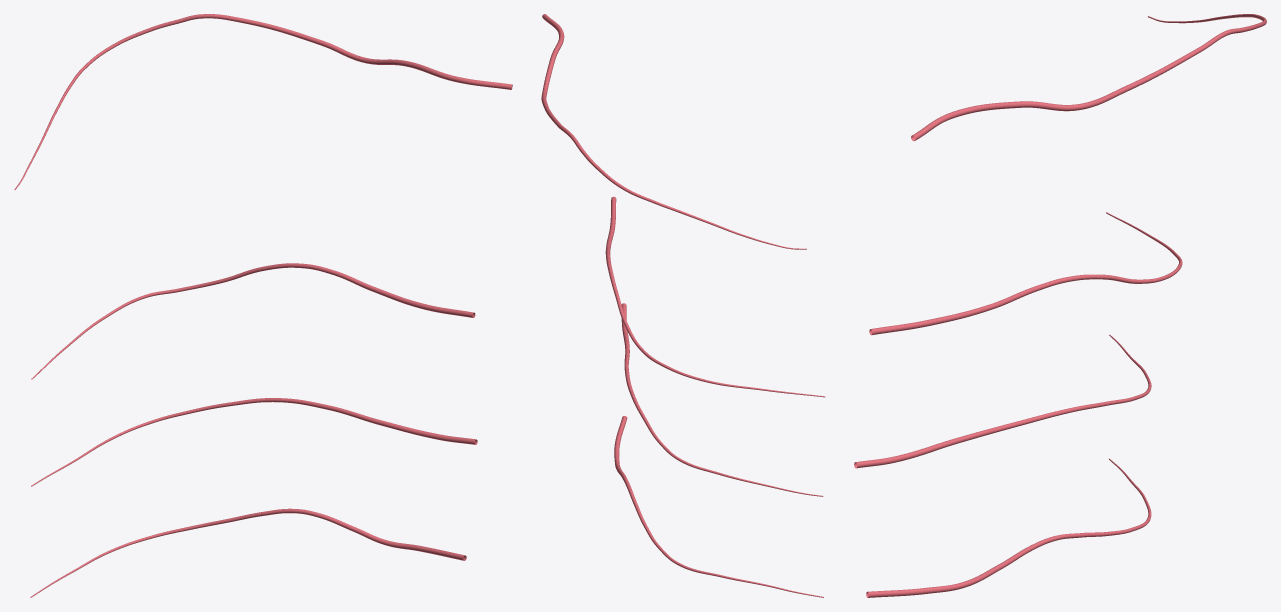
3 views of the same model, side by side, from view 1: azimuth 30°, elevation 25°; view 2: azimuth 150°, elevation 25°; view 3: azimuth 270°, elevation 25° (orthographic). The views are drawn at different scales.
Parts seen in each view (by area): view 1: ZA_6a9a23e05e7f3ddf; view 2: ZA_6a9a23e05e7f3ddf; view 3: ZA_6a9a23e05e7f3ddf.
Part boxes in pixels (x1=…): ZA_6a9a23e05e7f3ddf: x1=14, y1=14, x2=512, y2=597; ZA_6a9a23e05e7f3ddf: x1=541, y1=14, x2=825, y2=597; ZA_6a9a23e05e7f3ddf: x1=854, y1=14, x2=1266, y2=597.
Size of the model in its own units: 0.08 by 0.0949 by 0.0643.
